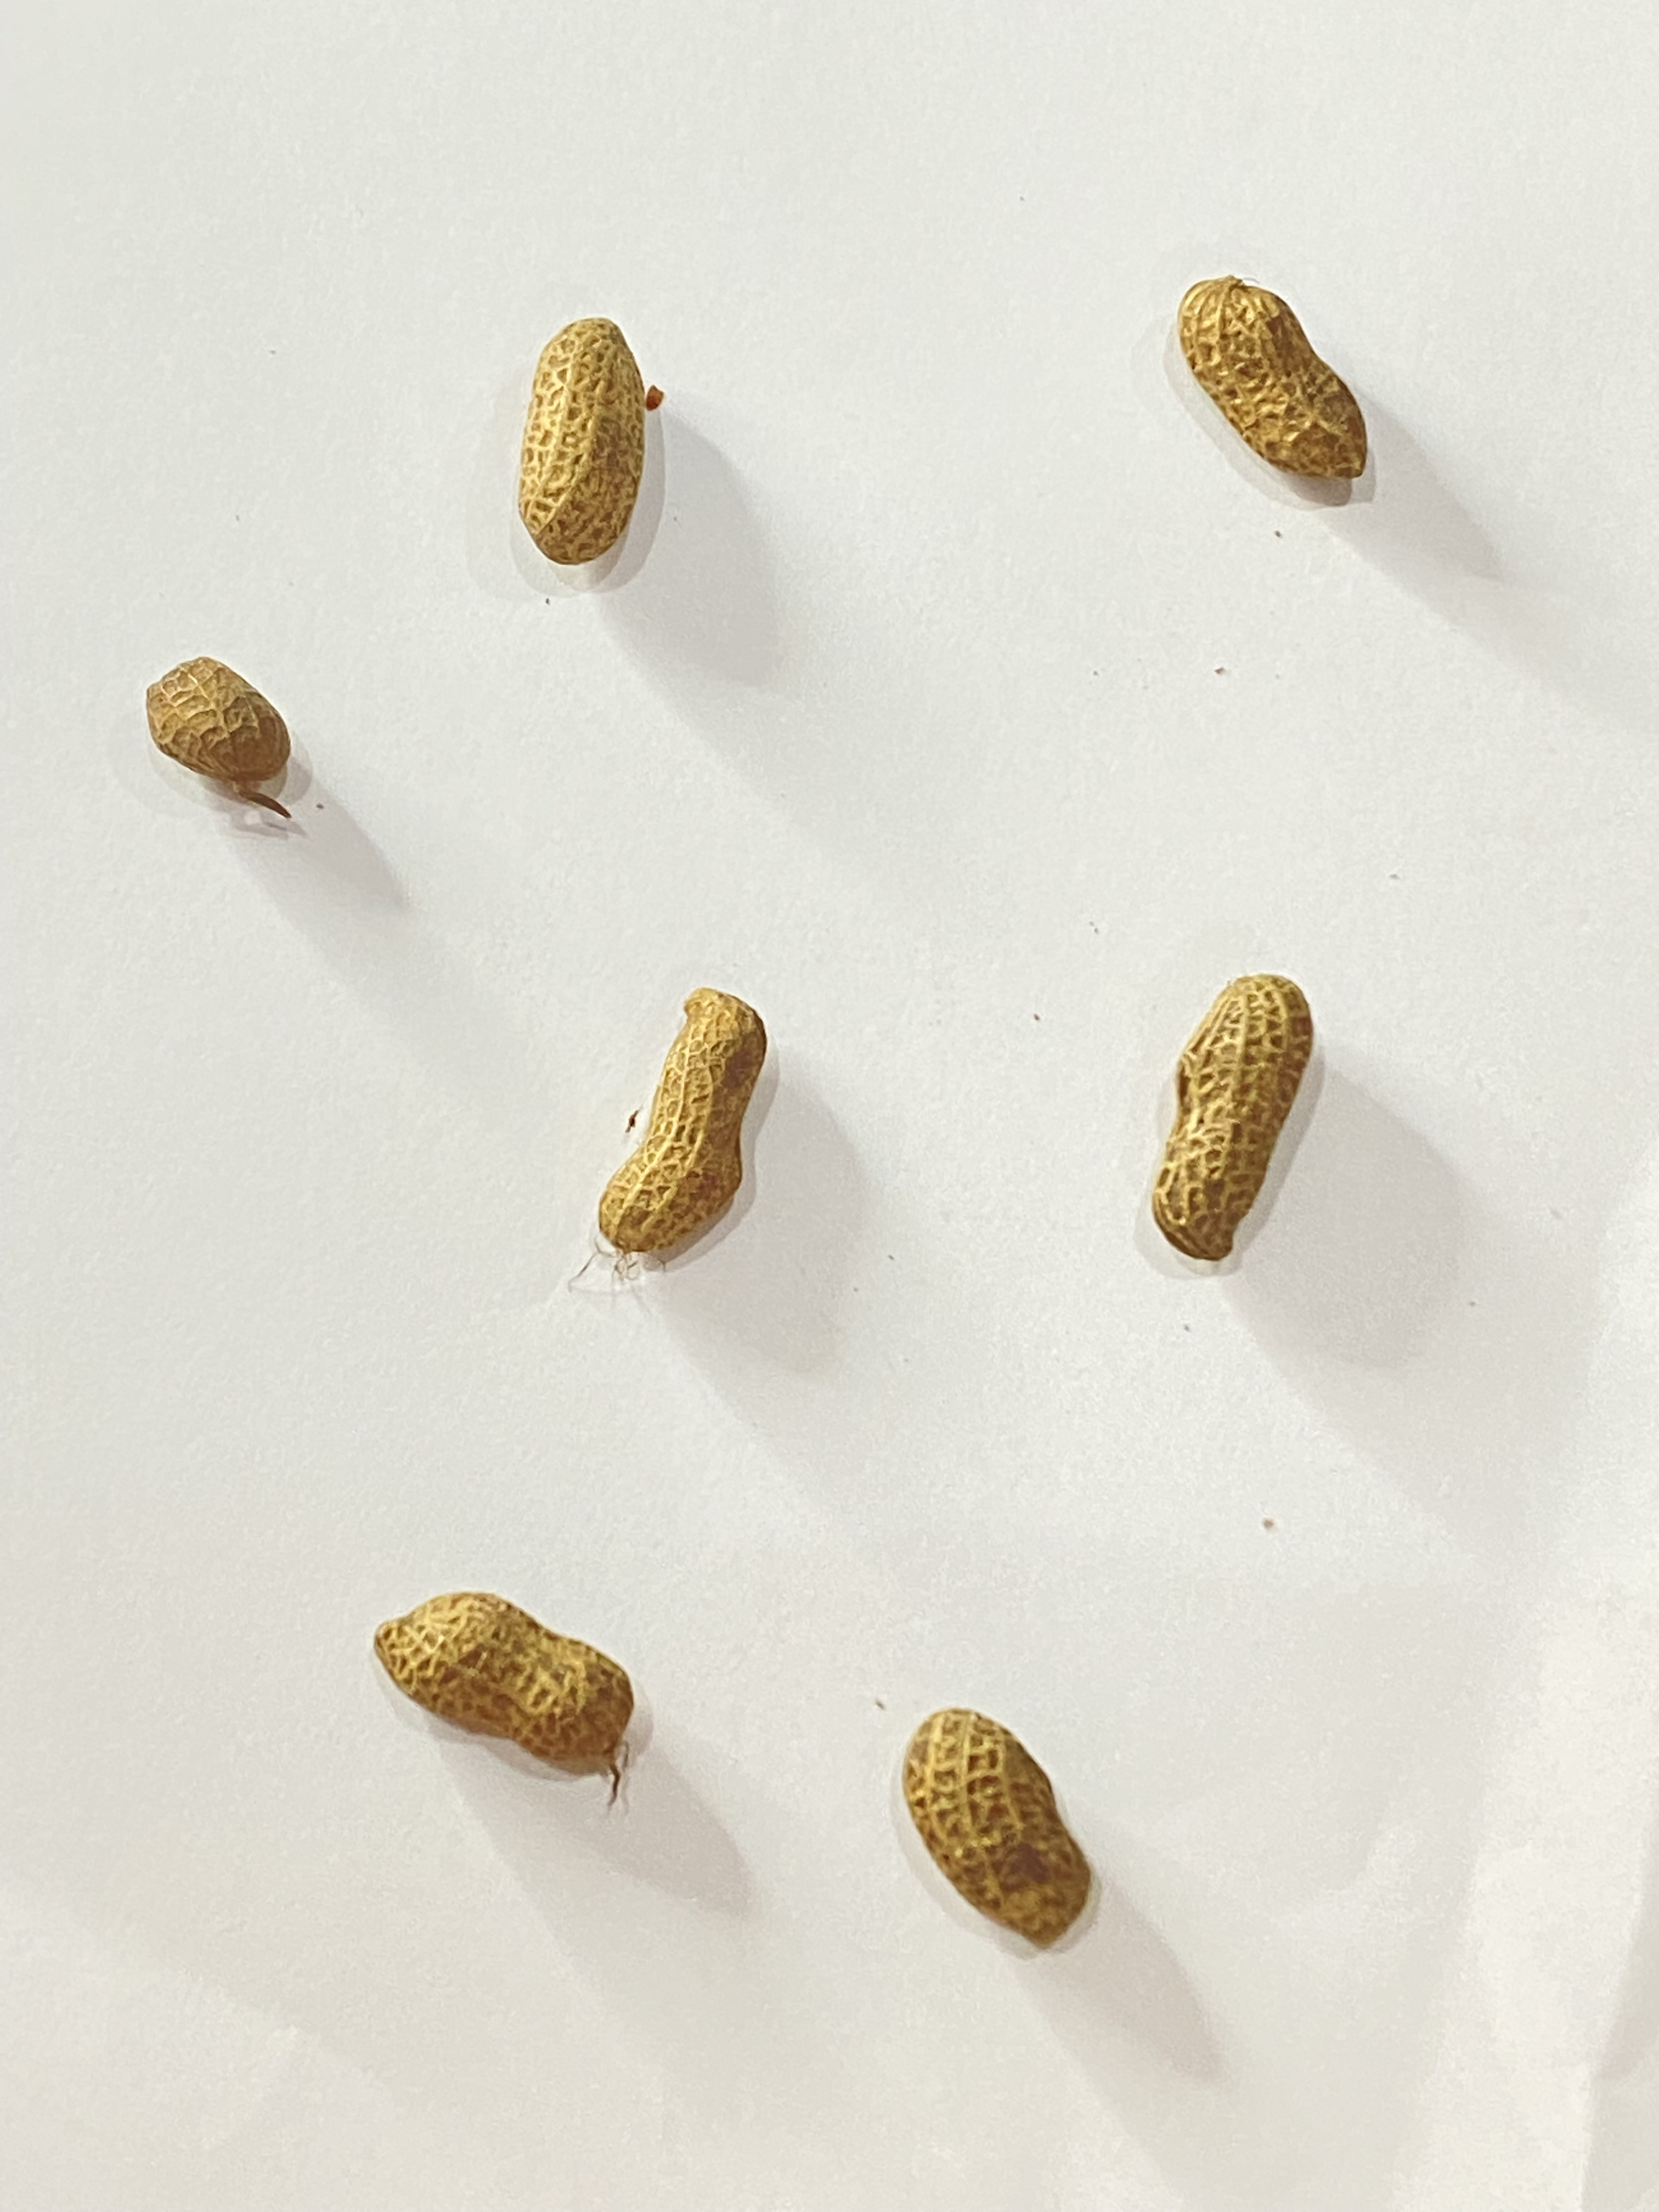kacang1: (134, 646, 314, 798)
kacang2: (842, 1709, 1197, 1952), (324, 1573, 687, 1799), (1157, 235, 1413, 519), (587, 968, 824, 1270), (1150, 939, 1328, 1287), (502, 296, 657, 582)
